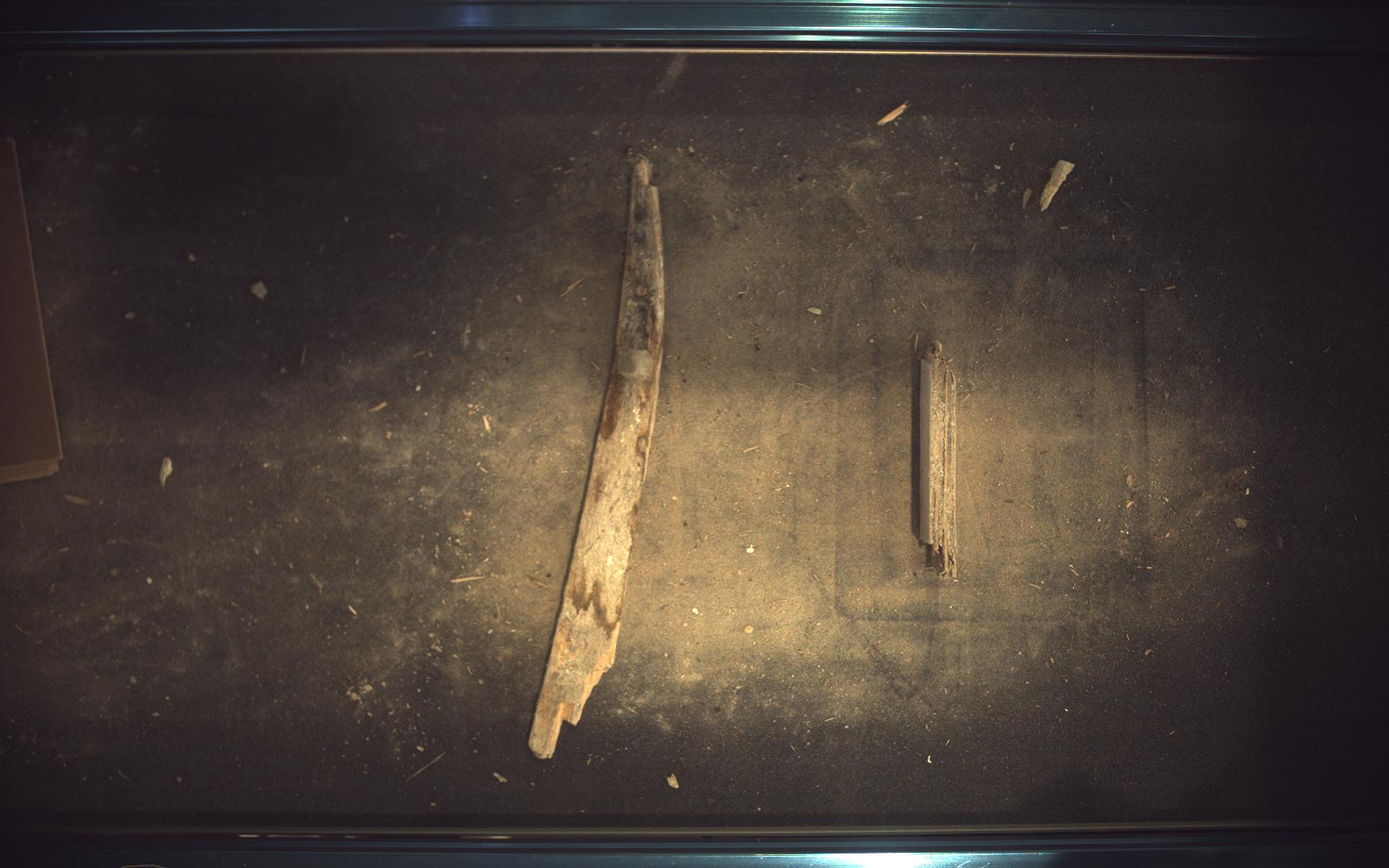wood: (921, 341, 959, 580)
